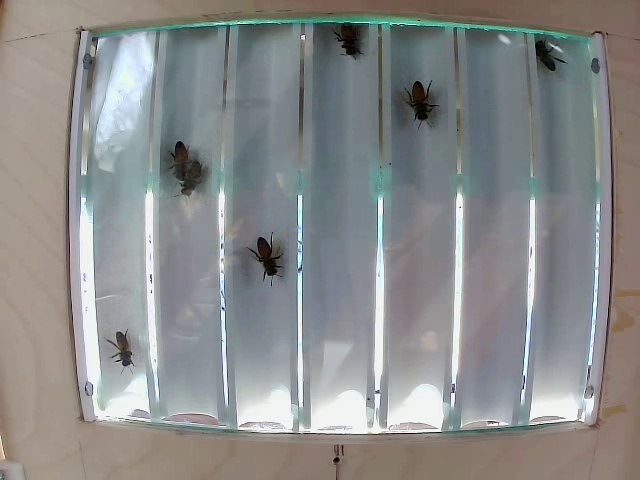bee: (164, 143, 219, 198), (528, 39, 568, 91), (406, 79, 442, 131), (252, 229, 287, 279), (103, 331, 146, 367), (332, 24, 366, 64)
